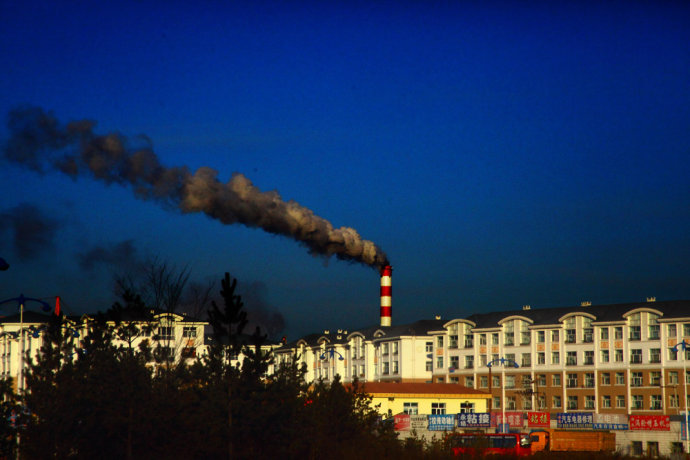dust: (237, 185, 397, 278)
